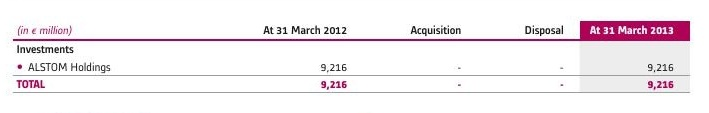table: (0, 0, 709, 113)
